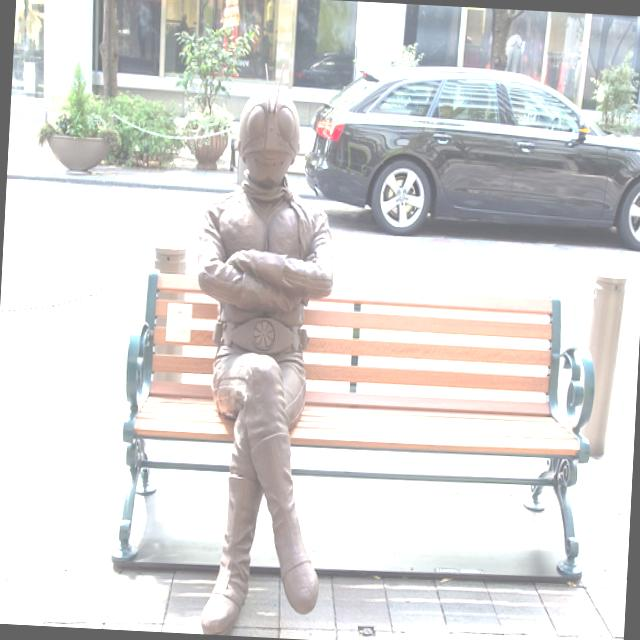Vehicle: (301, 61, 640, 246), (293, 50, 353, 90)
